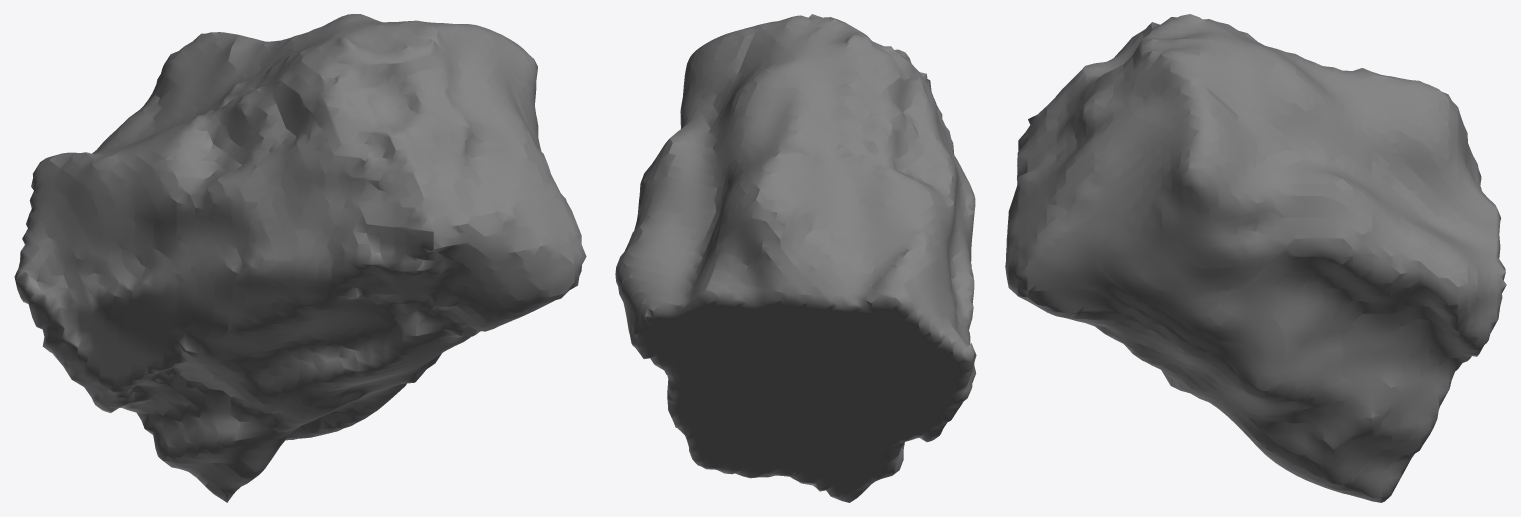
Rendered from mounain 2.obj.
3 renders of one model, left to right at view 1: azimuth 30°, elevation 25°; view 2: azimuth 150°, elevation 25°; view 3: azimuth 270°, elevation 25°, orthographic. The views are drawn at different scales.
Visible parts, largest first — view 1: Layer_1; view 2: Layer_1; view 3: Layer_1.
Part boxes in pixels (x1,y1,x2,y2): Layer_1: (14,14,586,502); Layer_1: (615,14,976,502); Layer_1: (1005,14,1506,502).
Bounding box in the file's own units: 30.95 × 33.96 × 32.01.
1 material, 1 textured.
